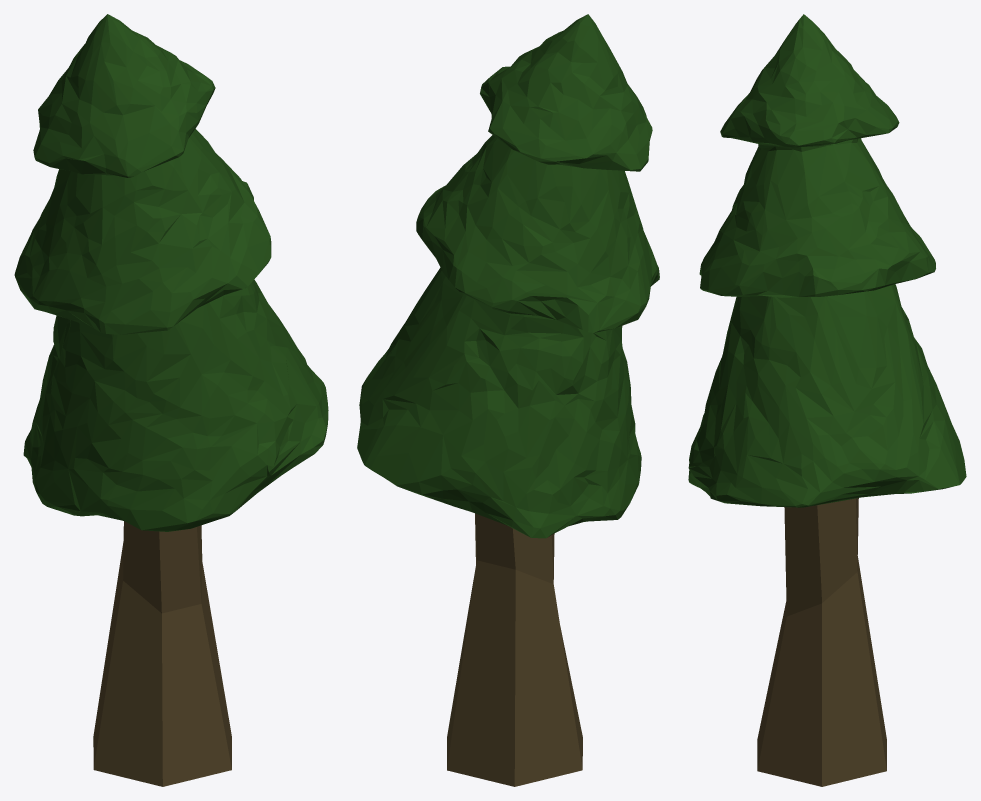
The model's file is PineTree4.fbx.
3 renders of one model, left to right at view 1: azimuth 30°, elevation 25°; view 2: azimuth 150°, elevation 25°; view 3: azimuth 270°, elevation 25°, orthographic. The views are drawn at different scales.
Parts seen in each view (by area): view 1: Tree1; view 2: Tree1; view 3: Tree1.
Boxes of the visible parts, x1=… form: Tree1: x1=14, y1=14, x2=328, y2=786; Tree1: x1=357, y1=14, x2=659, y2=786; Tree1: x1=688, y1=14, x2=966, y2=786.
Size of the model in its own units: 1.97 by 5.14 by 1.82.
